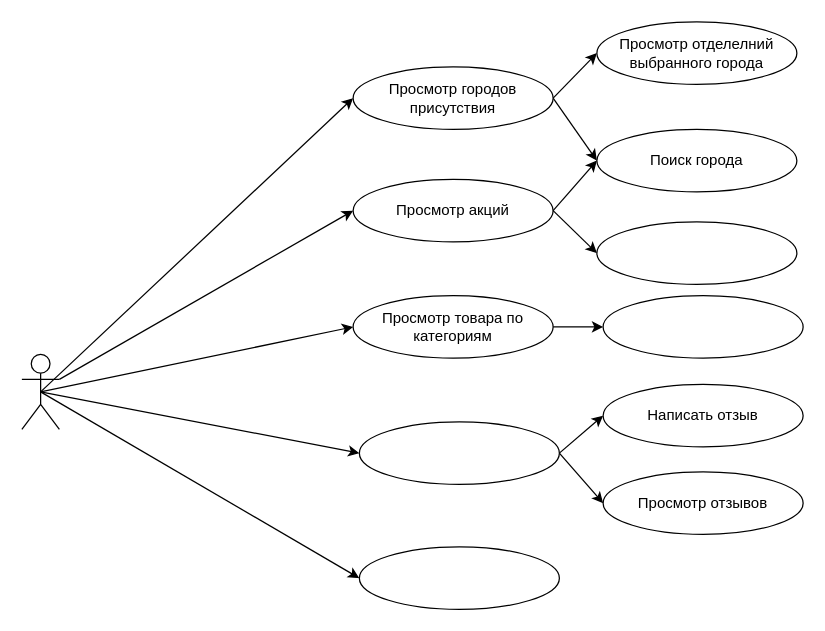
Image size: 825x631. Some labels were removed from this diagram. Here are the shapes that lost their labels. From the top down, the centre of each, then its label:
At (696,252): "Просмотр популярных товаров".
At (702,326): "Просмотр популярных товаров выбранной категории".
At (458,452): "Просмотр магазина".
At (458,577): "Смена города/региона".
